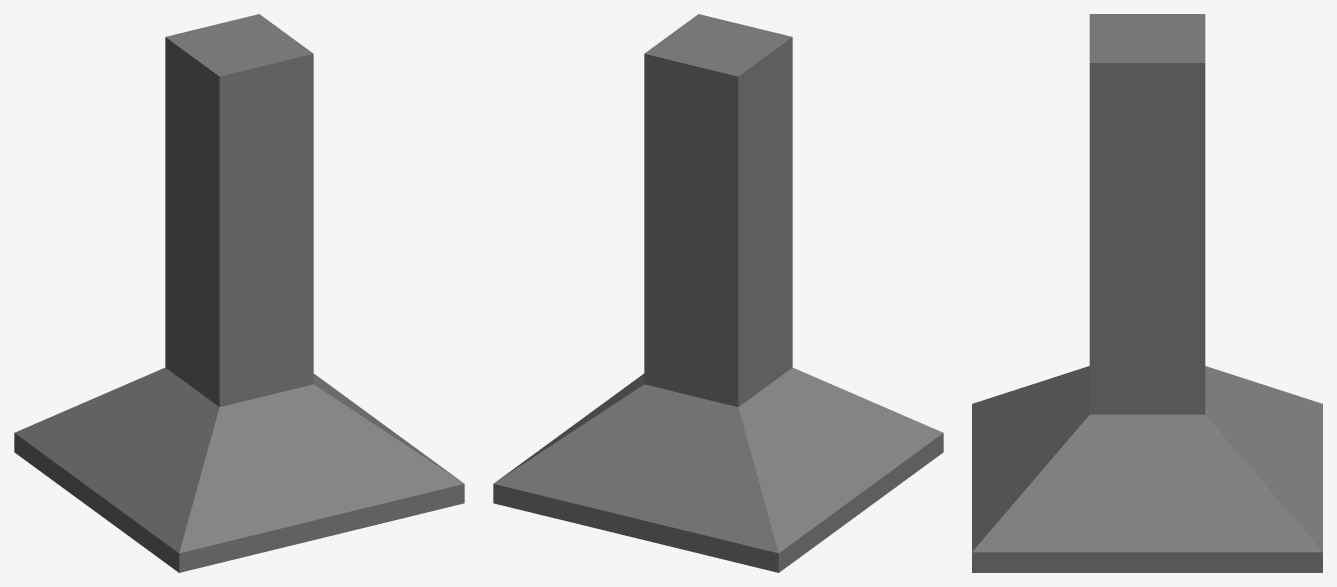
The model's file is CampanaCocina.fbx.
3 renders of one model, left to right at view 1: azimuth 30°, elevation 25°; view 2: azimuth 150°, elevation 25°; view 3: azimuth 270°, elevation 25°, orthographic. The views are drawn at different scales.
Visible parts, largest first — view 1: CampanaCocina; view 2: CampanaCocina; view 3: CampanaCocina.
Part boxes in pixels (bbox=[...]): CampanaCocina: bbox=[14, 14, 464, 572]; CampanaCocina: bbox=[493, 14, 943, 572]; CampanaCocina: bbox=[972, 14, 1322, 572].
Bounding box in the file's own units: 95.73 × 139 × 95.73.
